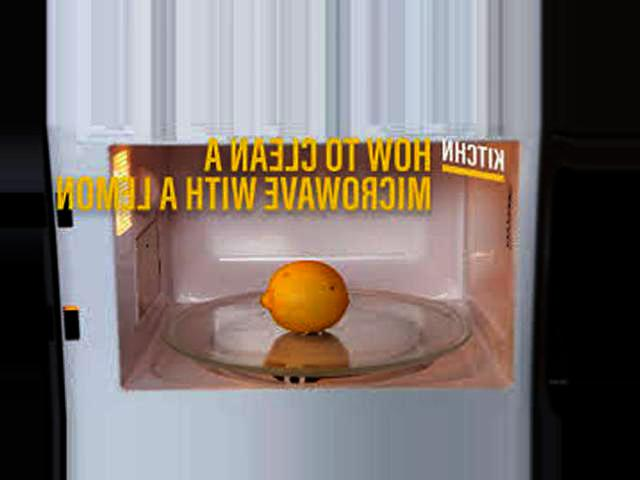lemon: (249, 252, 354, 341)
